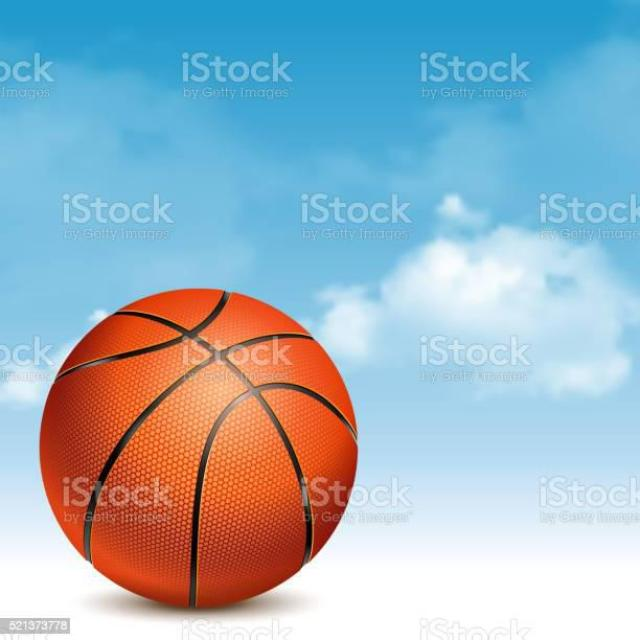ball: (32, 280, 368, 611)
